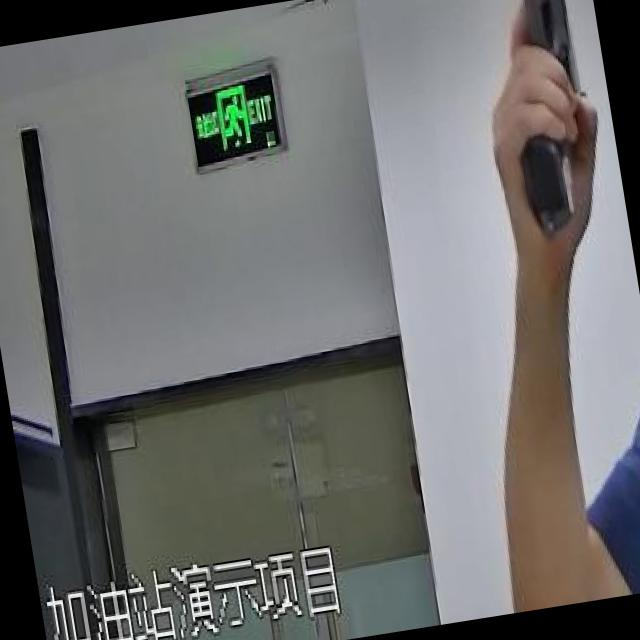Guns: (487, 0, 636, 289)
